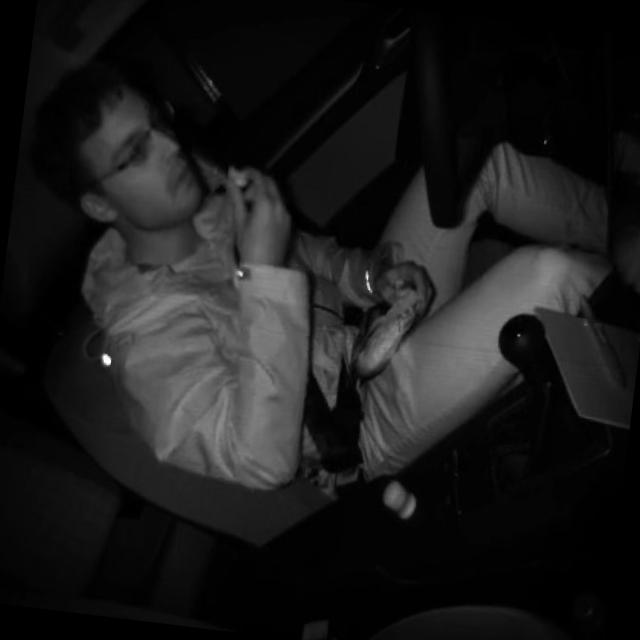pen: (566, 291, 640, 395)
